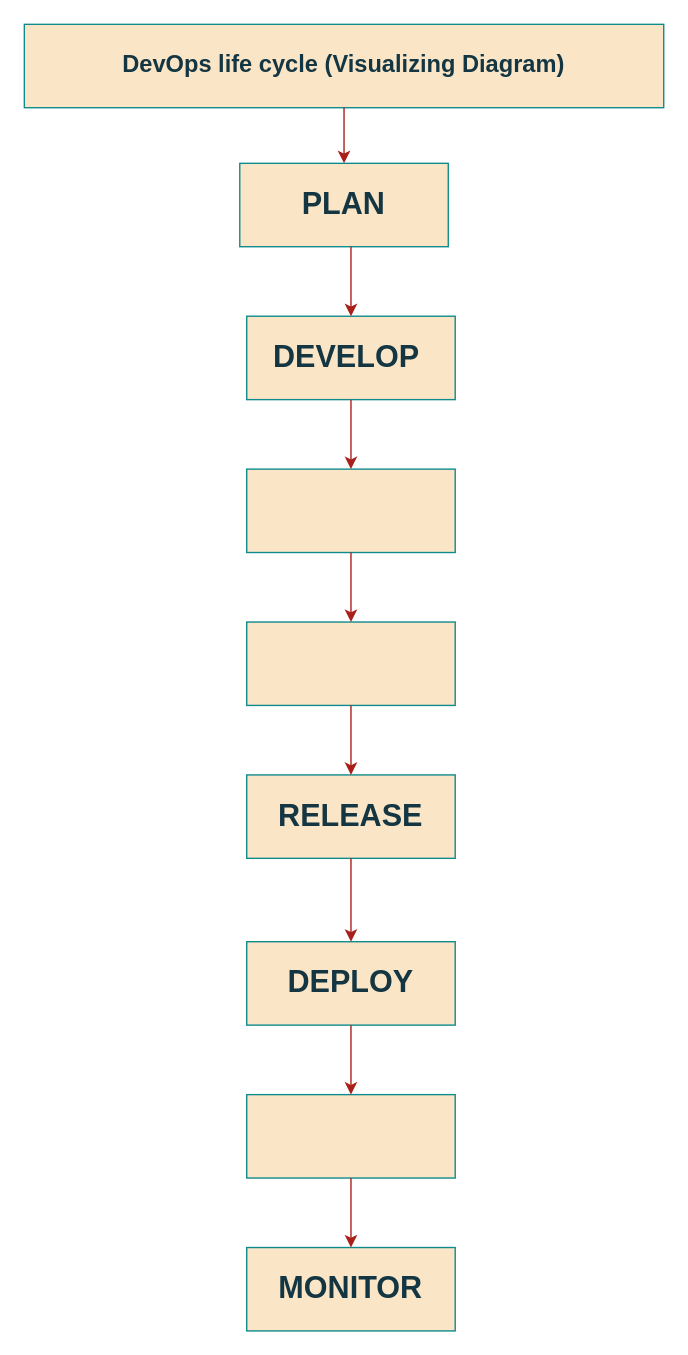
Some shapes in this 688 by 1355 pixel diagram are drawn without their labels. Each missing label, with the box of its shape:
BUILD: (245, 468, 455, 553)
OPERATE: (245, 1093, 455, 1178)
TEST: (245, 621, 455, 705)
